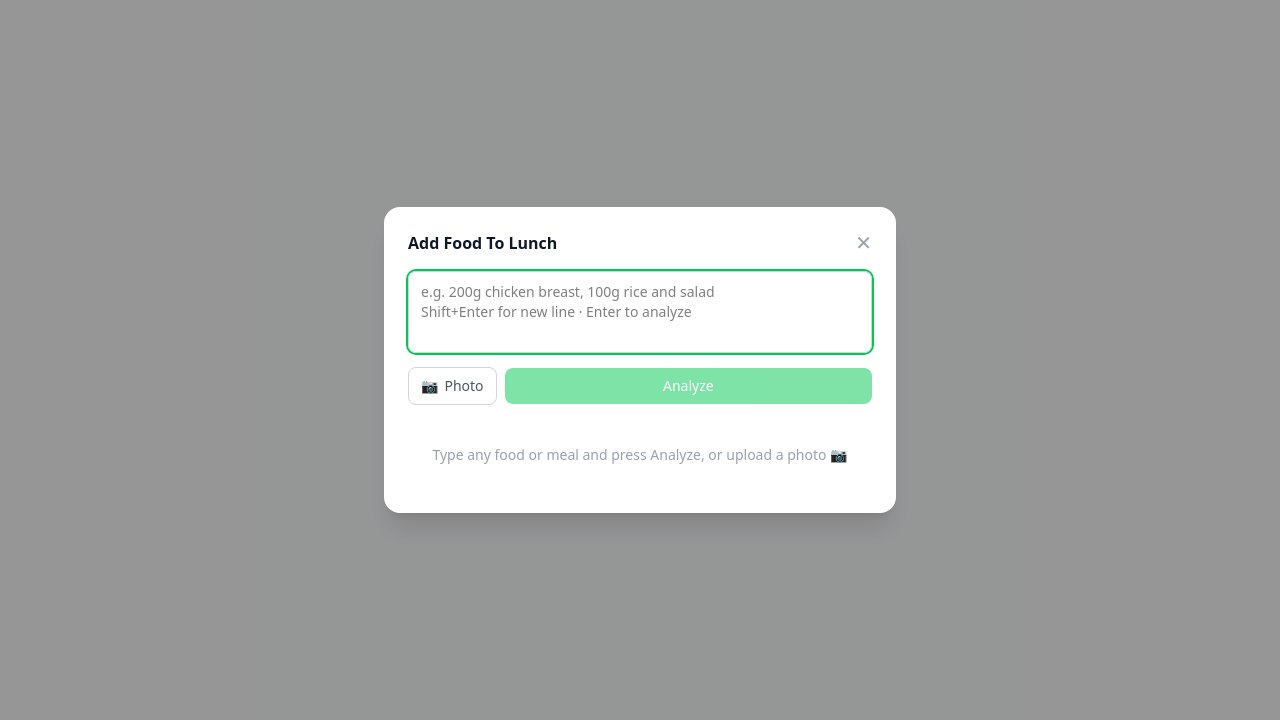
Test: FoodSearch › shows a Log button after results load
The width and height of the screenshot is (1280, 720).
Replace the text in the text box with "meal". click: (640, 312)
box: left=408, top=271, right=872, bottom=353
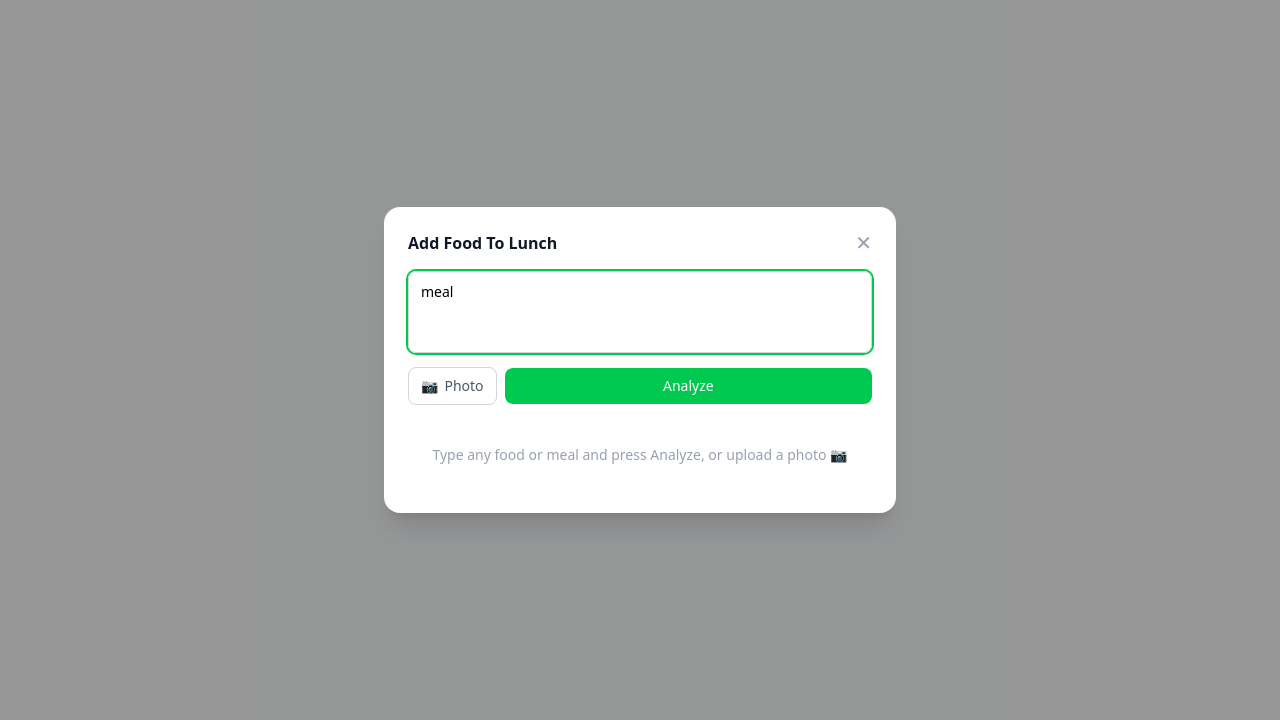
Click the button "Analyze". click: (688, 386)
box: left=505, top=368, right=872, bottom=404
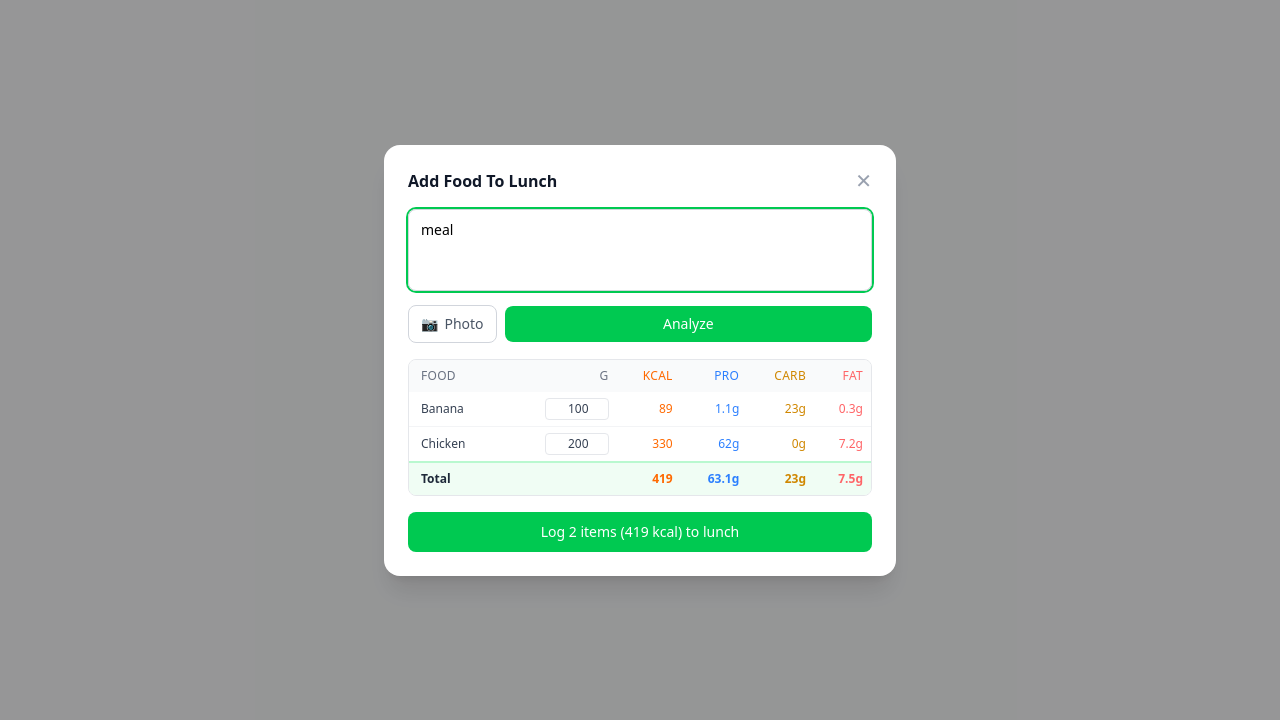
Expected: the button "Log 2 items (419 kcal) to lunch" is shown, left=408, top=512, right=872, bottom=552
